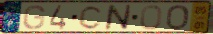4: (49, 4, 68, 30)
C: (78, 4, 105, 30)
G: (22, 4, 47, 31)
N: (104, 4, 133, 31)
O: (139, 4, 164, 31), (165, 4, 190, 31)
